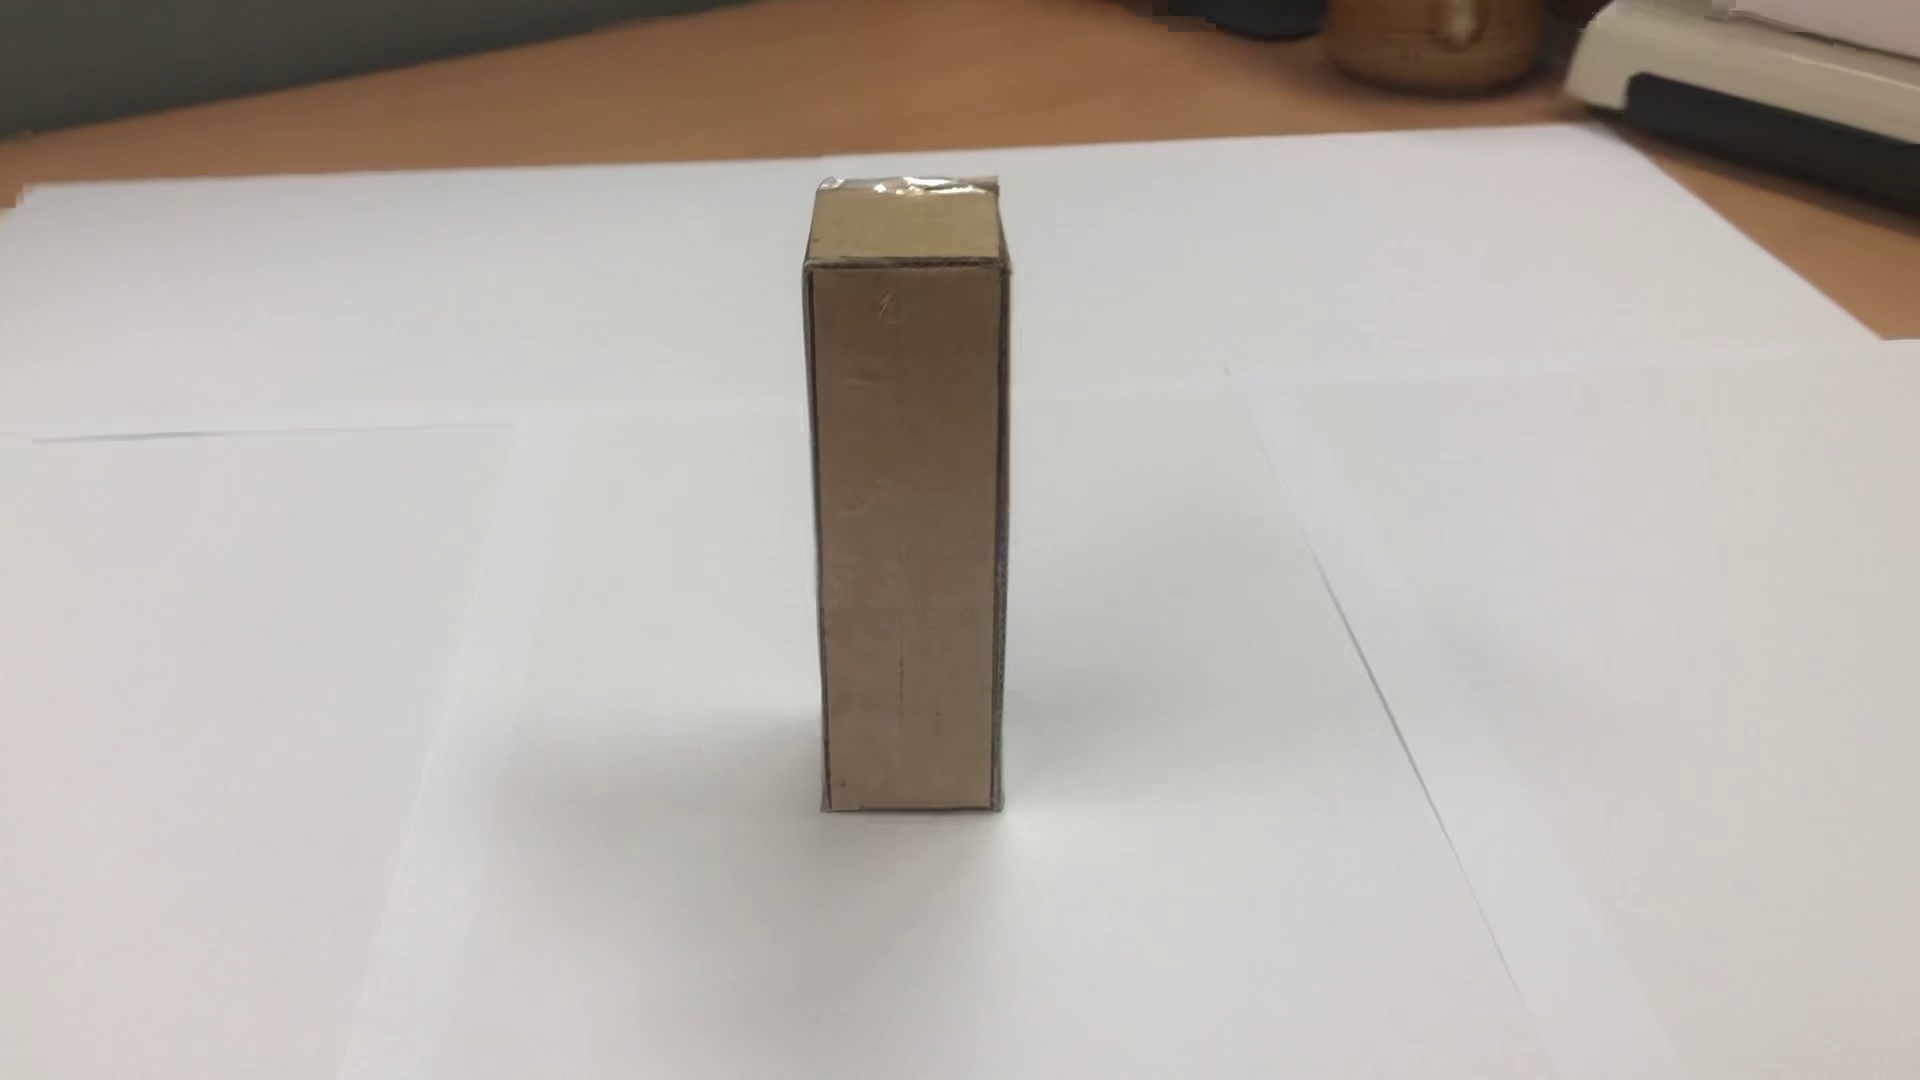box: (789, 160, 1026, 835)
